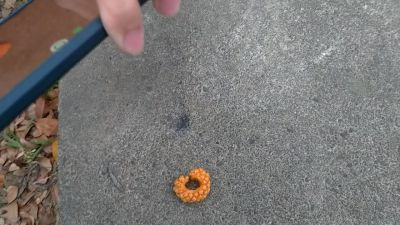eggs: (172, 167, 212, 205)
